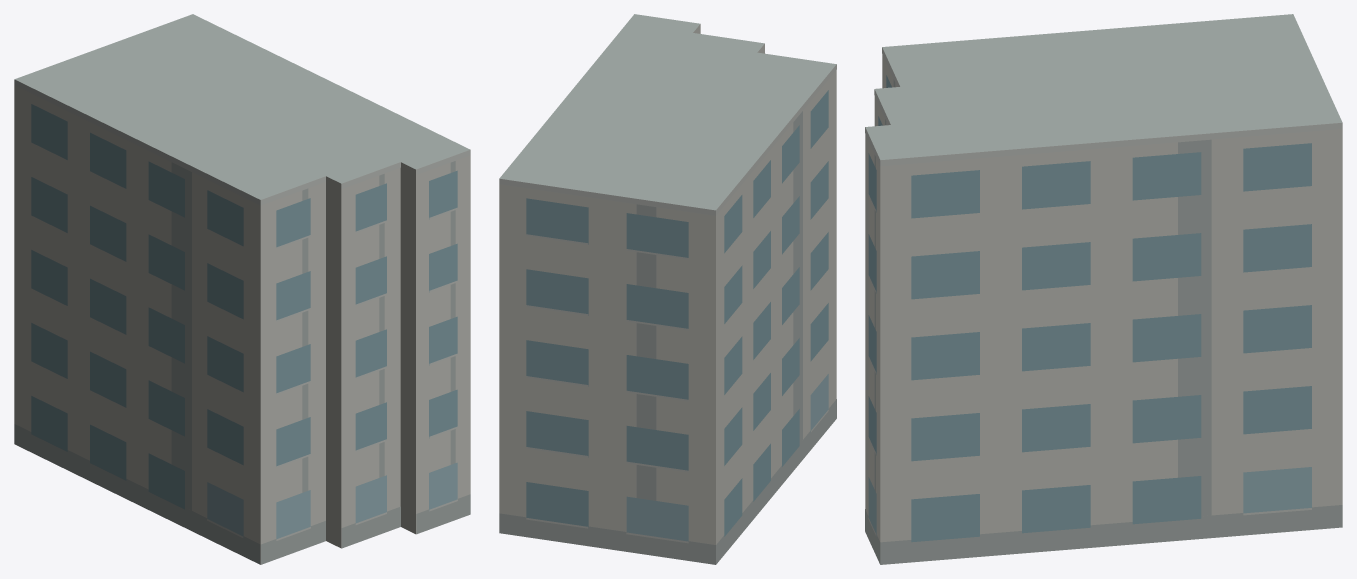
File: survey-upis-32924389.glb
3 renders of one model, left to right at view 1: azimuth 30°, elevation 25°; view 2: azimuth 150°, elevation 25°; view 3: azimuth 270°, elevation 25°, orthographic. The views are drawn at different scales.
Visible parts, largest first — view 1: survey-upis-32924389.tmp; view 2: survey-upis-32924389.tmp; view 3: survey-upis-32924389.tmp.
Boxes of the visible parts, x1,y1,x2,y2 form: survey-upis-32924389.tmp: [14, 14, 470, 564]; survey-upis-32924389.tmp: [499, 14, 836, 564]; survey-upis-32924389.tmp: [865, 14, 1342, 564].
Size of the model in its own units: 12.09 by 15.6 by 16.69.
